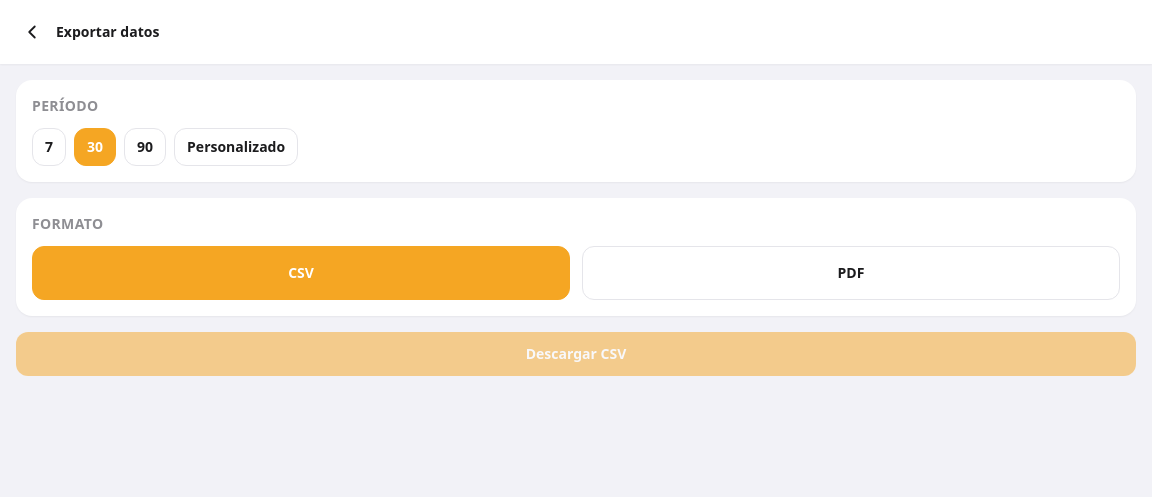
Test: ExportRoute custom range validation › reveals Desde/Hasta only for Personalizado
Check: the field labelled "Desde" is not shown
Click the button "Personalizado". click: [236, 147]
box: [174,128,298,166]
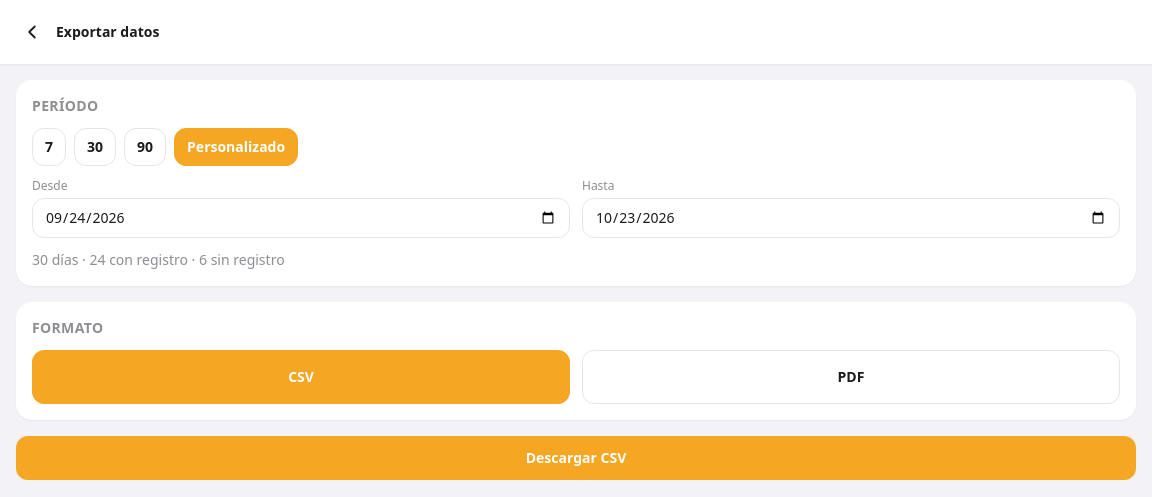
Check: the date field labelled "Desde" is shown, box [32,198,570,238]
Check: the date field labelled "Hasta" is shown, box [582,198,1120,238]
